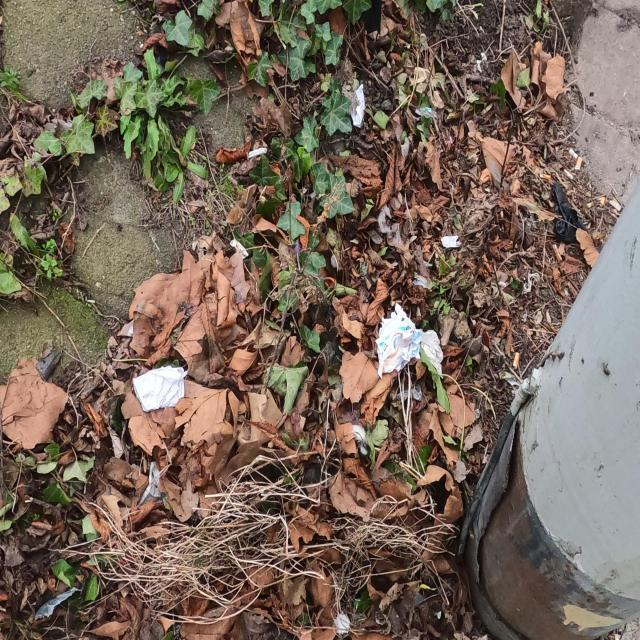Paper: (132, 363, 188, 413)
